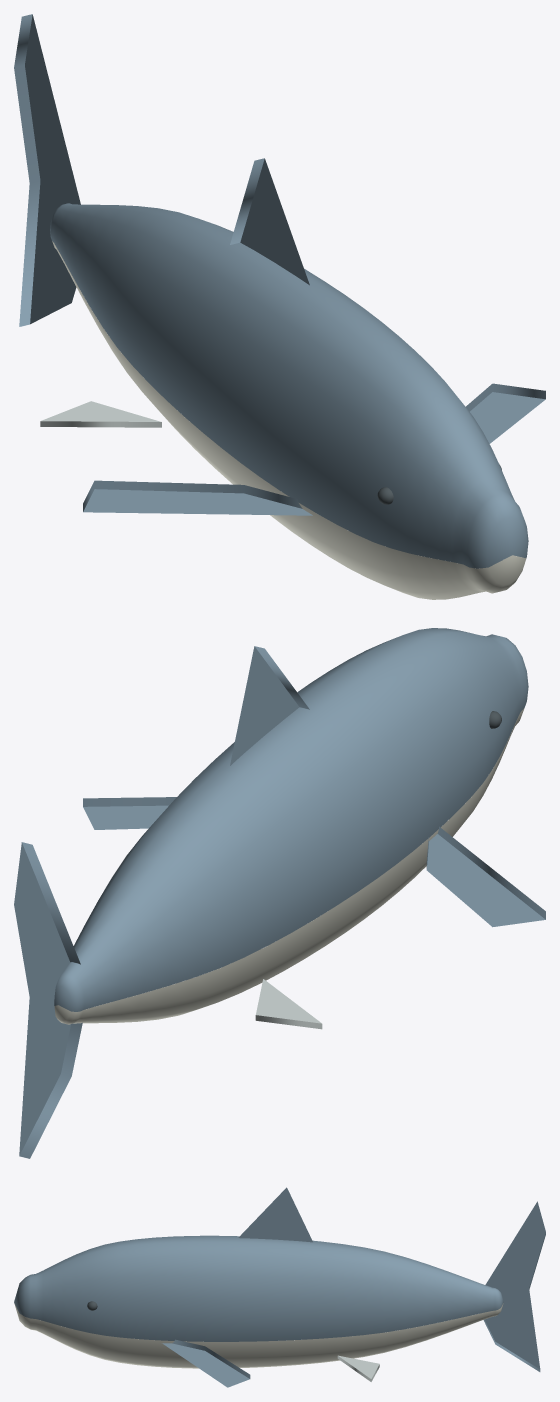
File: ocean_tuna.glb
The picture shows the model from 3 angles, top to bottom: view 1: azimuth 30°, elevation 25°; view 2: azimuth 150°, elevation 25°; view 3: azimuth 270°, elevation 25°; orthographic projection. The views are drawn at different scales.
Visible parts, largest first — view 1: bluefin-tuna; view 2: bluefin-tuna; view 3: bluefin-tuna.
Boxes of the visible parts, x1=… form: bluefin-tuna: x1=14, y1=14, x2=545, y2=599; bluefin-tuna: x1=14, y1=628, x2=545, y2=1158; bluefin-tuna: x1=14, y1=1187, x2=545, y2=1387.
Bounding box in the file's own units: 1.14 × 0.795 × 2.1.
